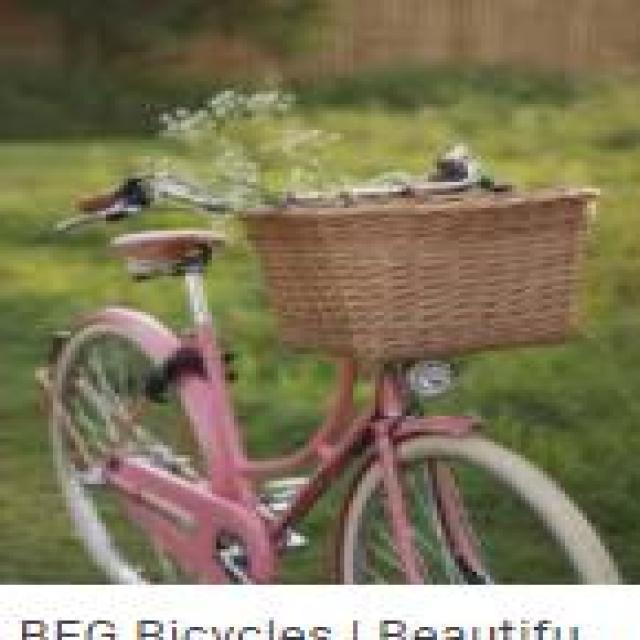bicycle: (36, 206, 610, 577)
